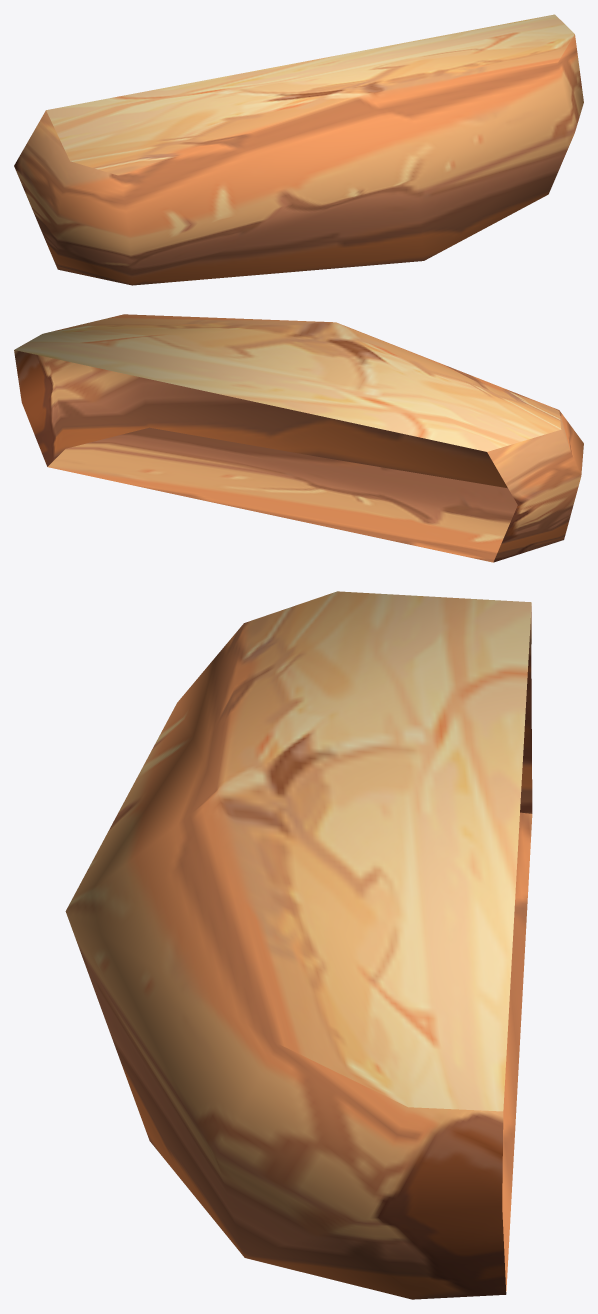
Rendered from Chapter1Scene1Model30.FBX.
3 views of the same model, one above another, from view 1: azimuth 30°, elevation 25°; view 2: azimuth 150°, elevation 25°; view 3: azimuth 270°, elevation 25° (orthographic). The views are drawn at different scales.
Parts seen in each view (by area): view 1: Chapter1Scene1Model30; view 2: Chapter1Scene1Model30; view 3: Chapter1Scene1Model30.
Part boxes in pixels (box(x1,y1,x2,y2)): Chapter1Scene1Model30: box(14, 14, 583, 285); Chapter1Scene1Model30: box(14, 314, 583, 562); Chapter1Scene1Model30: box(65, 591, 532, 1299).
Bounding box in the file's own units: 61.24 × 23.72 × 17.47.
